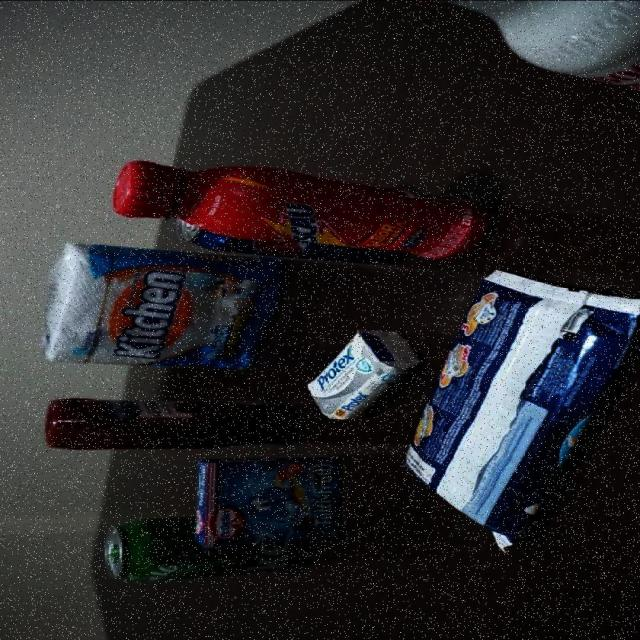BeerCan: (102, 544, 320, 585)
ChocolateMilk: (115, 166, 493, 252)
Gelatine: (195, 455, 346, 543)
Ketchup: (45, 399, 298, 452)
Napkin: (48, 256, 287, 369)
Popcorn: (401, 262, 637, 536)
Soap: (302, 319, 415, 421)
